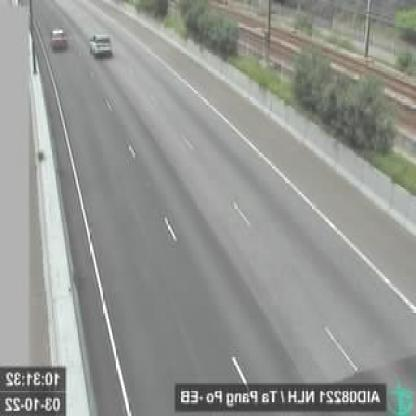Car: (90, 33, 113, 55), (52, 26, 69, 49)
